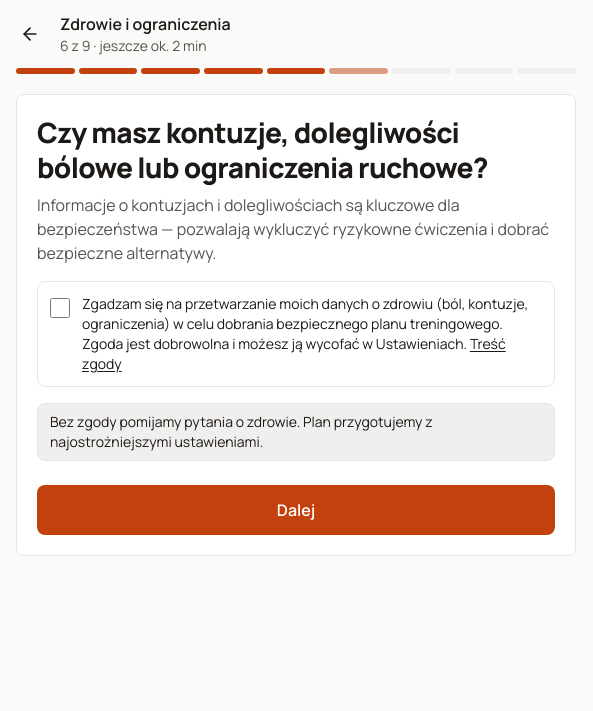
Test: steps › health consent: unticked by default; without it the question is not asked and the screen can be passed; ticking shows the question
Expected: the text "Bez zgody pomijamy pytania o zdrowie" is shown, 50,412 -> 433,451
Expected: the radio button labelled "Tak" is not shown
What coordinates should you click on to do the following:
click the checkbox
I would click on:
 (60, 308)
Its box is 50,298 -> 70,318.
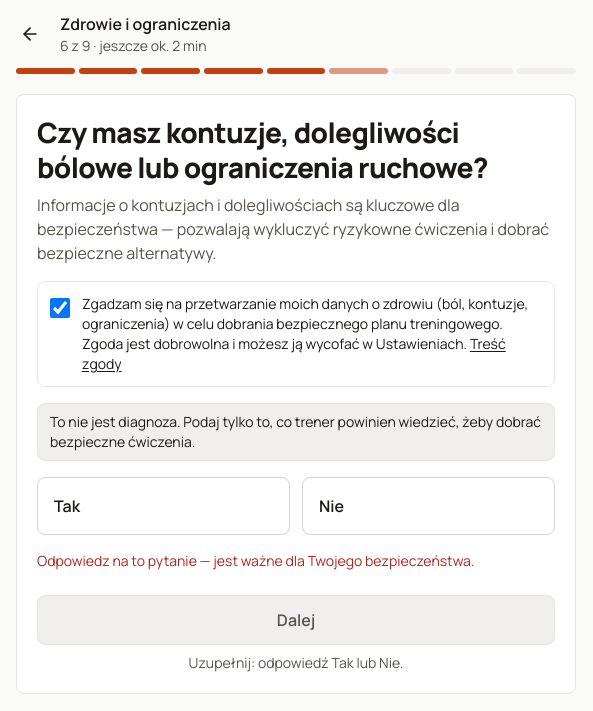
Now the radio button labelled "Tak" is shown, box 54,495 -> 80,517
Now the button with test id "next" is disabled, box 37,595 -> 555,645
Now the text "Bez zgody pomijamy pytania o zdrowie" is gone
